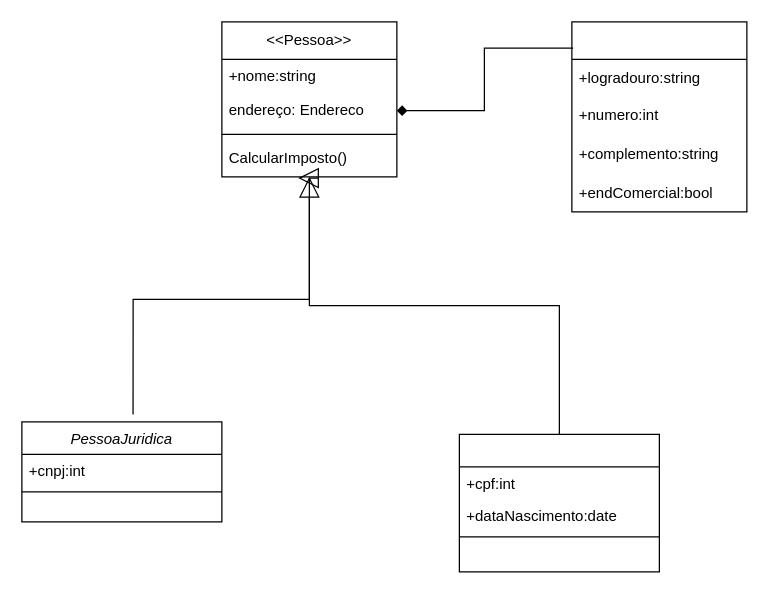
This 769x594 diagram has some shape labels left out. The box of each missing label's shape, as (x1, y1, x2, y2) in pixels:
Endereco: (571, 21, 747, 212)
PessoaFisica: (458, 433, 659, 572)
